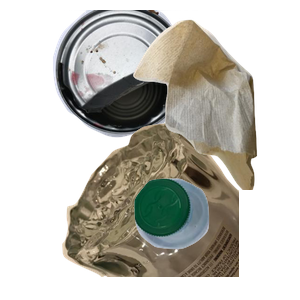glass: (60, 120, 300, 300)
metal: (50, 10, 262, 140)
plastic: (132, 176, 300, 300)
trash: (131, 17, 300, 197)
